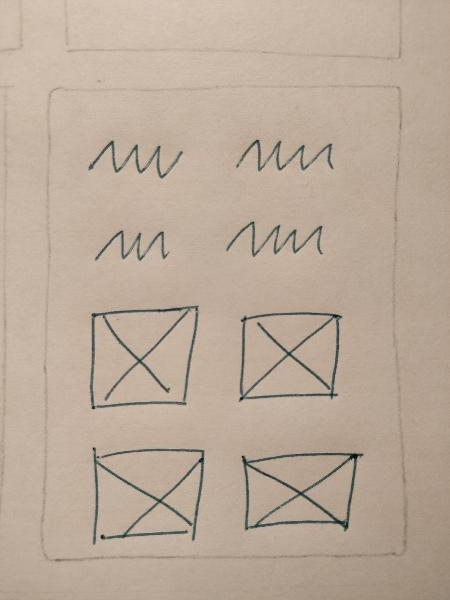image: (79, 438, 218, 552), (76, 301, 207, 414), (233, 445, 368, 538), (226, 309, 352, 407)
text: (79, 129, 191, 189), (226, 127, 348, 182), (220, 214, 332, 257), (89, 220, 176, 268)
